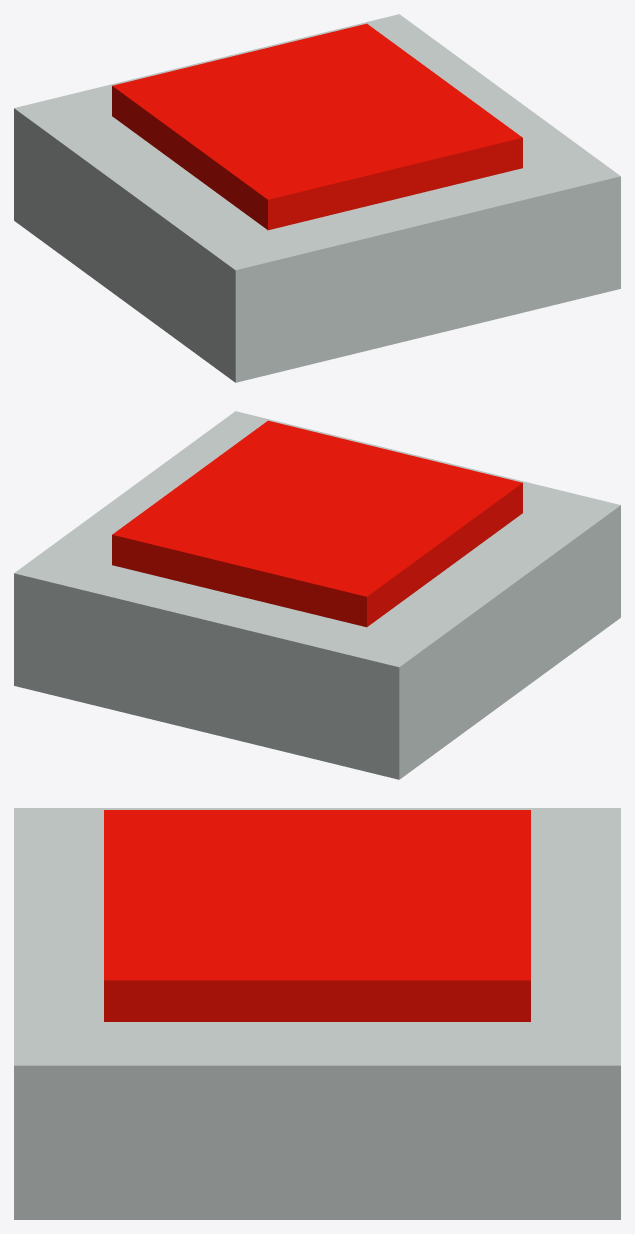
Rendered from button.fbx.
3 views of the same model, one above another, from view 1: azimuth 30°, elevation 25°; view 2: azimuth 150°, elevation 25°; view 3: azimuth 270°, elevation 25° (orthographic). The views are drawn at different scales.
Parts seen in each view (by area): view 1: Cube, Cube.001; view 2: Cube, Cube.001; view 3: Cube, Cube.001.
Boxes of the visible parts, x1,y1,x2,y2 form: Cube: (14, 14, 620, 382); Cube.001: (112, 23, 522, 230); Cube: (14, 411, 620, 779); Cube.001: (112, 420, 522, 627); Cube: (14, 808, 620, 1219); Cube.001: (104, 810, 530, 1021).
Bounding box in the file's own units: 717 × 254 × 714.
